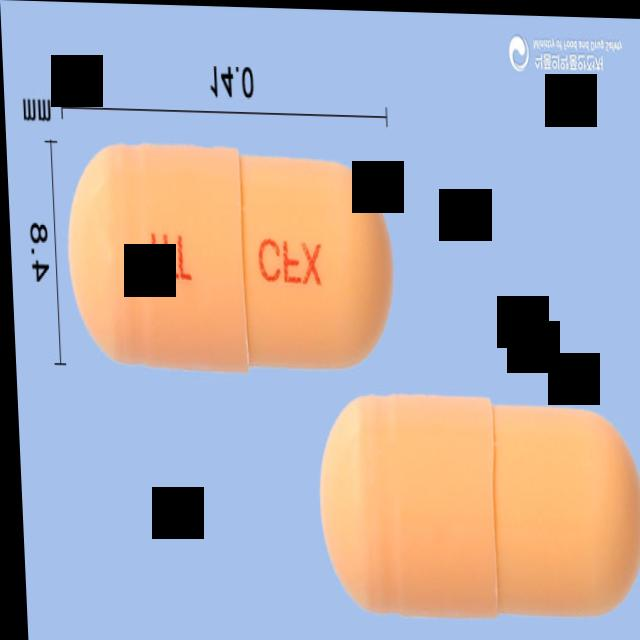NT-fixime Cap: (63, 140, 395, 376), (311, 386, 640, 622)
